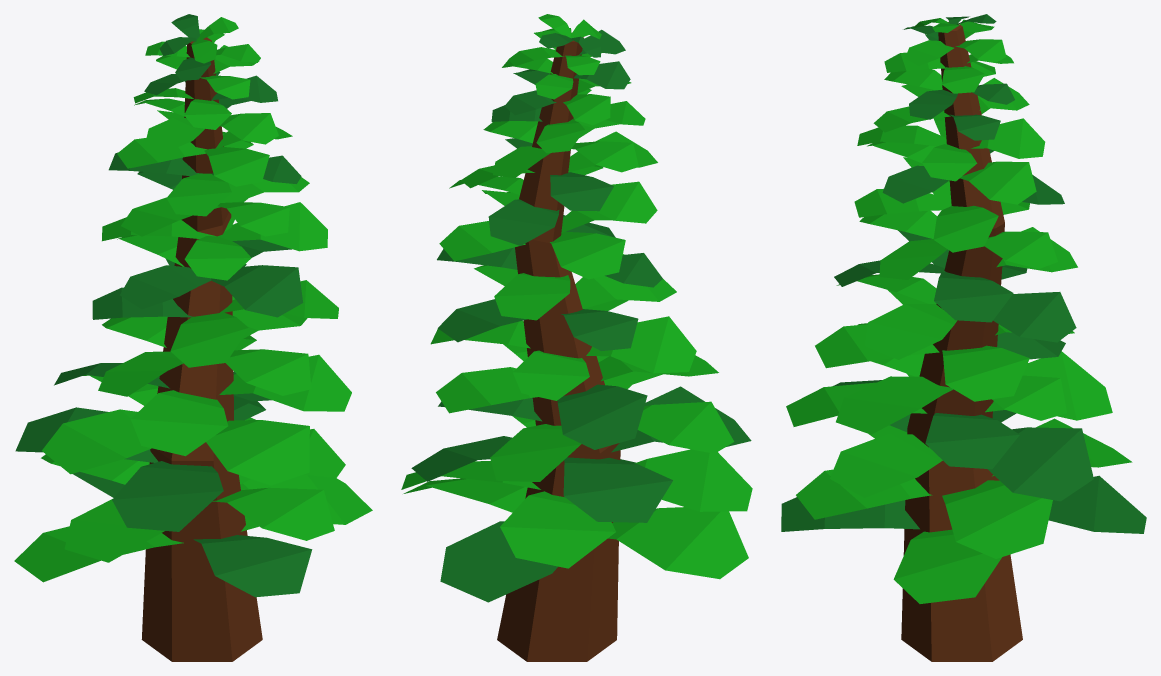
The model's file is Tree 4.1.fbx.
3 views of the same model, side by side, from view 1: azimuth 30°, elevation 25°; view 2: azimuth 150°, elevation 25°; view 3: azimuth 270°, elevation 25° (orthographic).
Parts seen in each view (by area): view 1: Baum; view 2: Baum; view 3: Baum.
Boxes of the visible parts, x1,y1,x2,y2 form: Baum: (14,14,372,661); Baum: (401,14,752,661); Baum: (781,14,1146,661).
Bounding box in the file's own units: 163 × 296 × 157.
